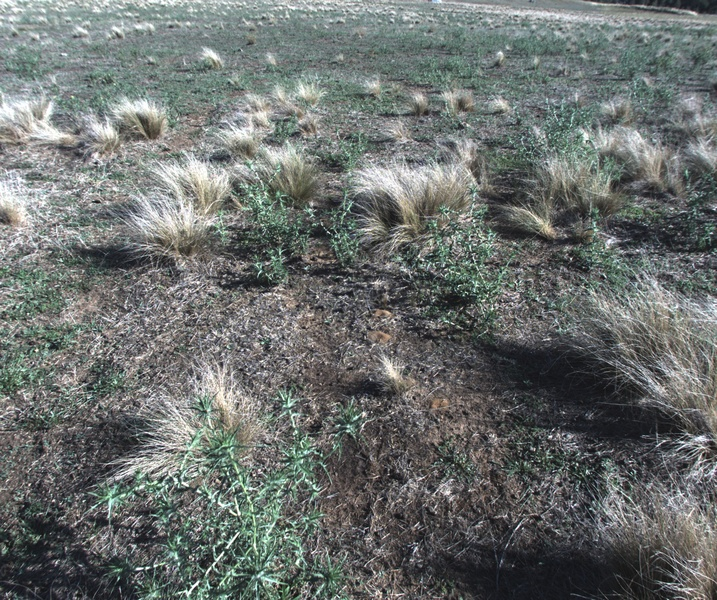st: (609, 280, 717, 416), (149, 385, 262, 486), (615, 502, 717, 590), (369, 166, 467, 252), (509, 164, 606, 242), (614, 134, 690, 204), (138, 191, 205, 260), (1, 100, 49, 160), (172, 159, 227, 209), (271, 156, 317, 209), (77, 114, 117, 160), (677, 87, 717, 129), (359, 354, 404, 390), (1, 188, 33, 237), (130, 104, 170, 141), (225, 130, 262, 163), (442, 141, 480, 172), (295, 79, 330, 112), (238, 96, 274, 127), (694, 135, 717, 170), (598, 100, 629, 121), (200, 44, 225, 69), (445, 91, 472, 114), (278, 96, 301, 121), (387, 125, 414, 144), (298, 113, 316, 141), (409, 92, 429, 113), (486, 93, 508, 111), (362, 75, 380, 94), (264, 51, 278, 74), (225, 75, 244, 91)
